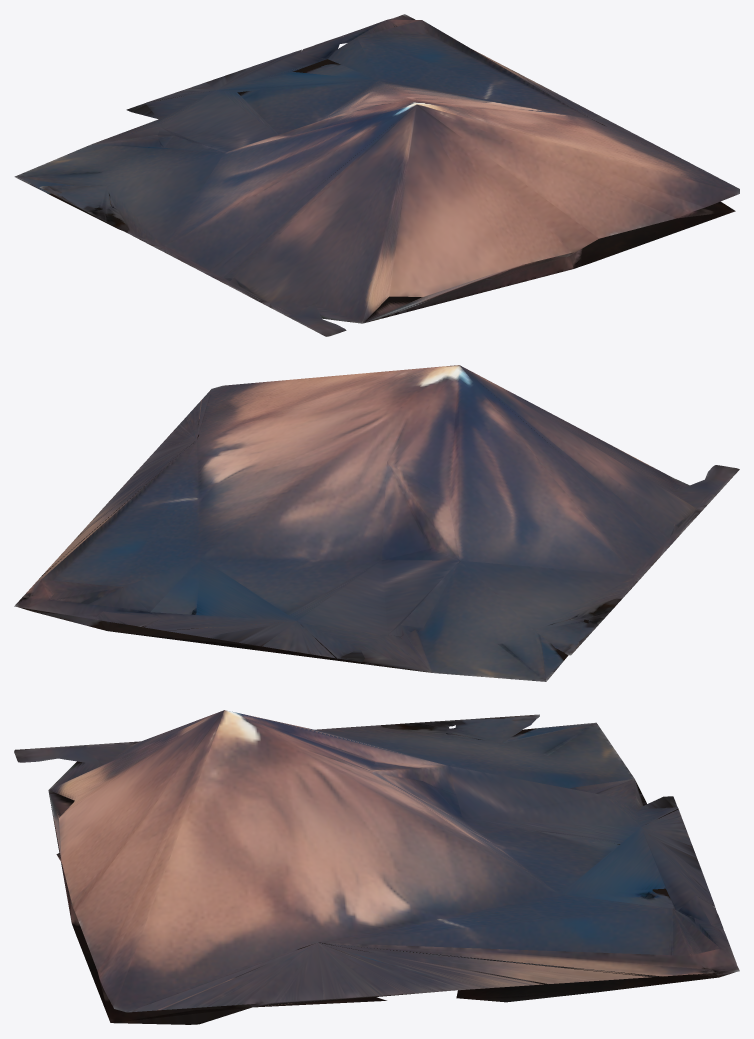
Rendered from gunung.fbx.
3 renders of one model, top to bottom at view 1: azimuth 30°, elevation 25°; view 2: azimuth 150°, elevation 25°; view 3: azimuth 270°, elevation 25°, orthographic. The views are drawn at different scales.
Visible parts, largest first — view 1: model.012; view 2: model.012; view 3: model.012.
Part boxes in pixels (x1,y1,x2,y2): model.012: (14,14,739,336); model.012: (14,365,739,681); model.012: (14,710,739,1024).
Bounding box in the file's own units: 27128 × 6911 × 27886.
